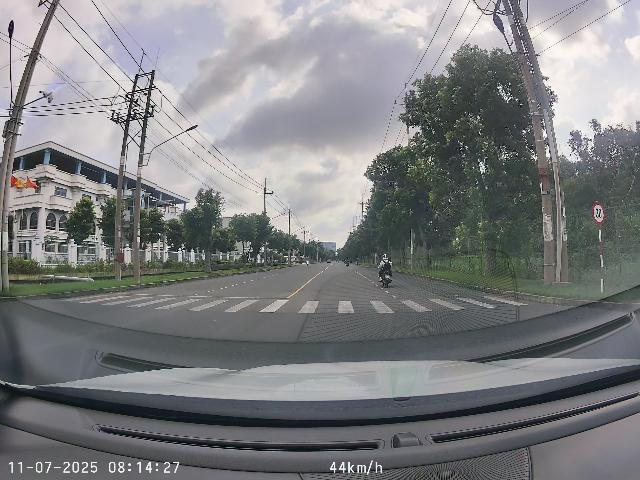127-toc-do-toi-da-30: (592, 202, 606, 225)
